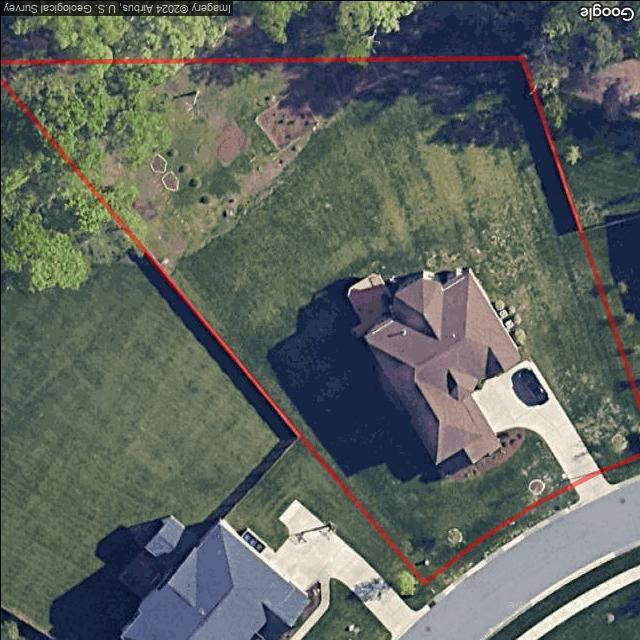Driveway: (467, 353, 598, 483)
Extra-Driveway: (570, 469, 609, 499)
Extra-Lawn: (421, 484, 581, 596), (601, 455, 640, 485)
House: (363, 266, 522, 465)
Lawn: (0, 58, 638, 580)
Other: (436, 428, 524, 479), (346, 270, 392, 337), (487, 296, 526, 349)
